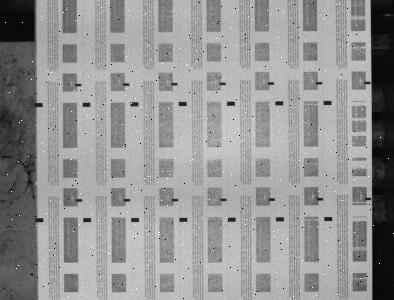qblock: (179, 101, 187, 106), (180, 217, 188, 222), (83, 102, 91, 107), (35, 218, 44, 222), (130, 102, 139, 106), (324, 217, 333, 221), (227, 101, 235, 105), (276, 101, 284, 105), (83, 218, 91, 222), (131, 218, 139, 222), (324, 101, 332, 105), (276, 217, 284, 221), (228, 217, 236, 221), (35, 103, 43, 107)
smallqblock: (124, 198, 130, 202), (172, 82, 178, 86), (123, 83, 130, 86), (75, 83, 82, 86), (268, 82, 275, 85), (172, 199, 179, 202), (317, 198, 324, 201), (269, 198, 276, 201), (76, 199, 82, 202), (221, 198, 227, 201), (317, 82, 323, 85), (220, 82, 226, 85), (365, 81, 371, 84), (366, 197, 372, 200)
